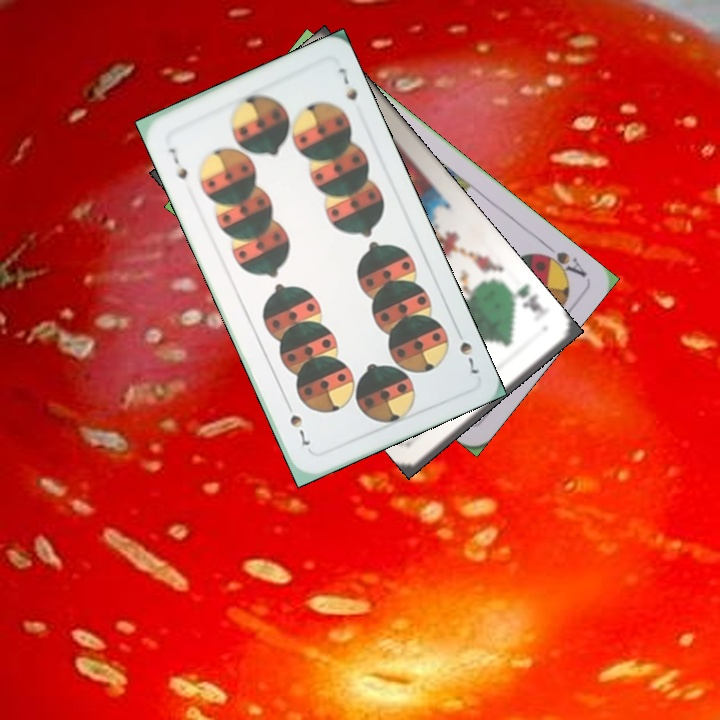GK: (503, 280, 546, 316)
S7: (451, 323, 481, 379), (164, 143, 191, 182)
SA: (532, 238, 589, 280)
